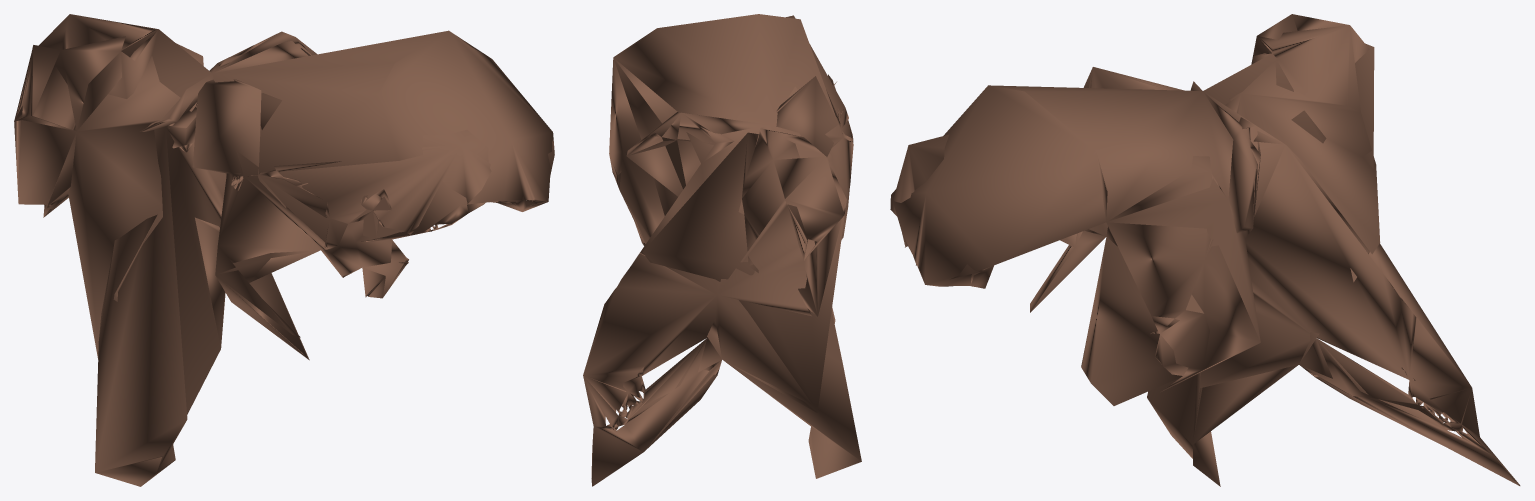
Rendered from Hair_tied_LOD2.glb.
The picture shows the model from 3 angles, left to right: view 1: azimuth 30°, elevation 25°; view 2: azimuth 150°, elevation 25°; view 3: azimuth 270°, elevation 25°; orthographic projection. The views are drawn at different scales.
Visible parts, largest first — view 1: Hair_tied_LOD2; view 2: Hair_tied_LOD2; view 3: Hair_tied_LOD2.
Boxes of the visible parts, box(x1,y1,x2,y2) form: Hair_tied_LOD2: box(14, 14, 554, 486); Hair_tied_LOD2: box(583, 14, 861, 486); Hair_tied_LOD2: box(890, 14, 1520, 486).
Bounding box in the file's own units: 0.33 × 0.3782 × 0.4507.
